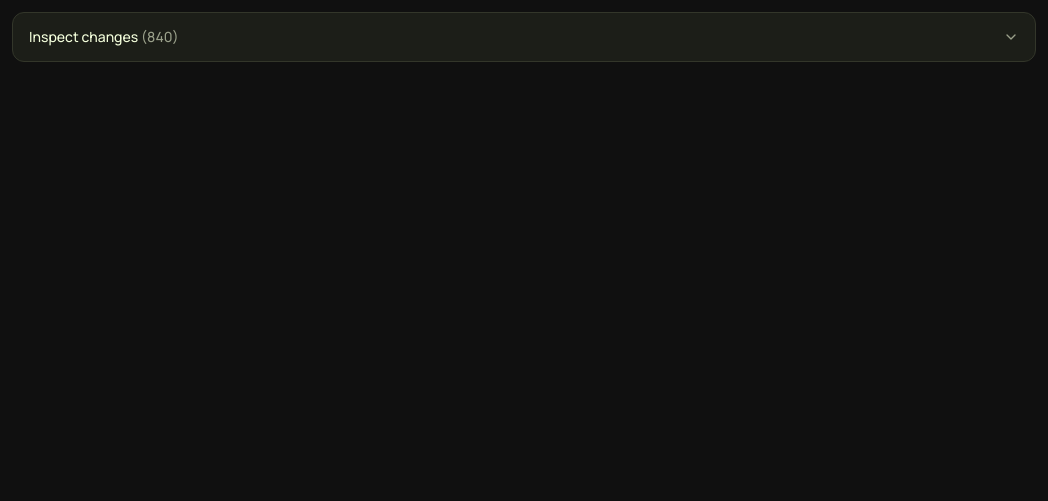
Scenario: Inspector — display cap › shows a truncation notice and renders only the first 500 rows when there are more
Click the button "Inspect changes (840)" at (85, 36), box 13,13 -> 1035,61
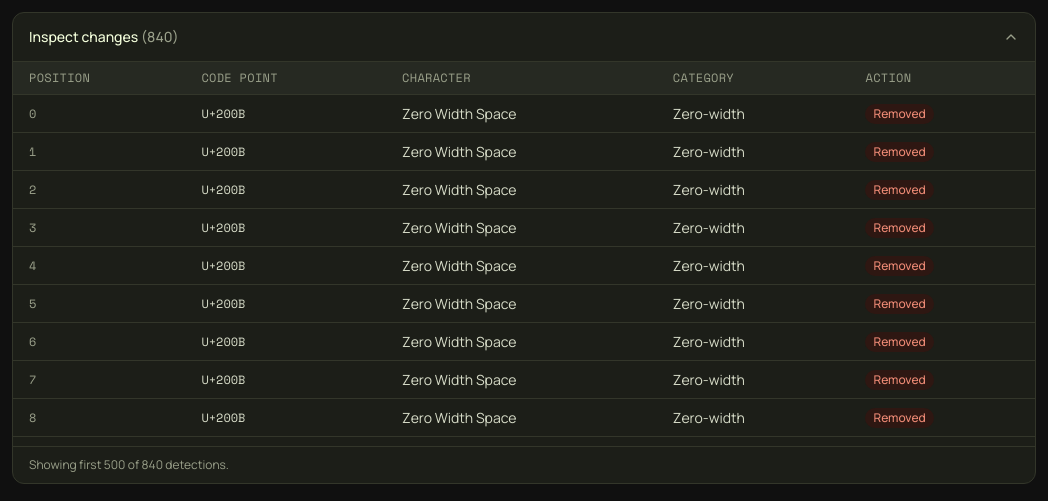
Check: the text "U+200B" is shown 500 times
